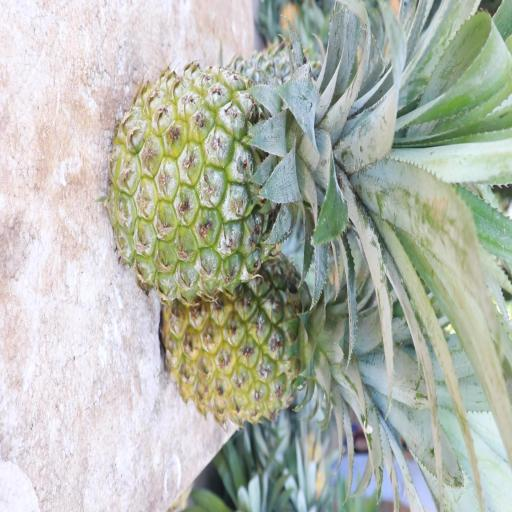------------------------------: (104, 48, 377, 304)
Pineapple - v8 v1: (157, 232, 392, 434)
